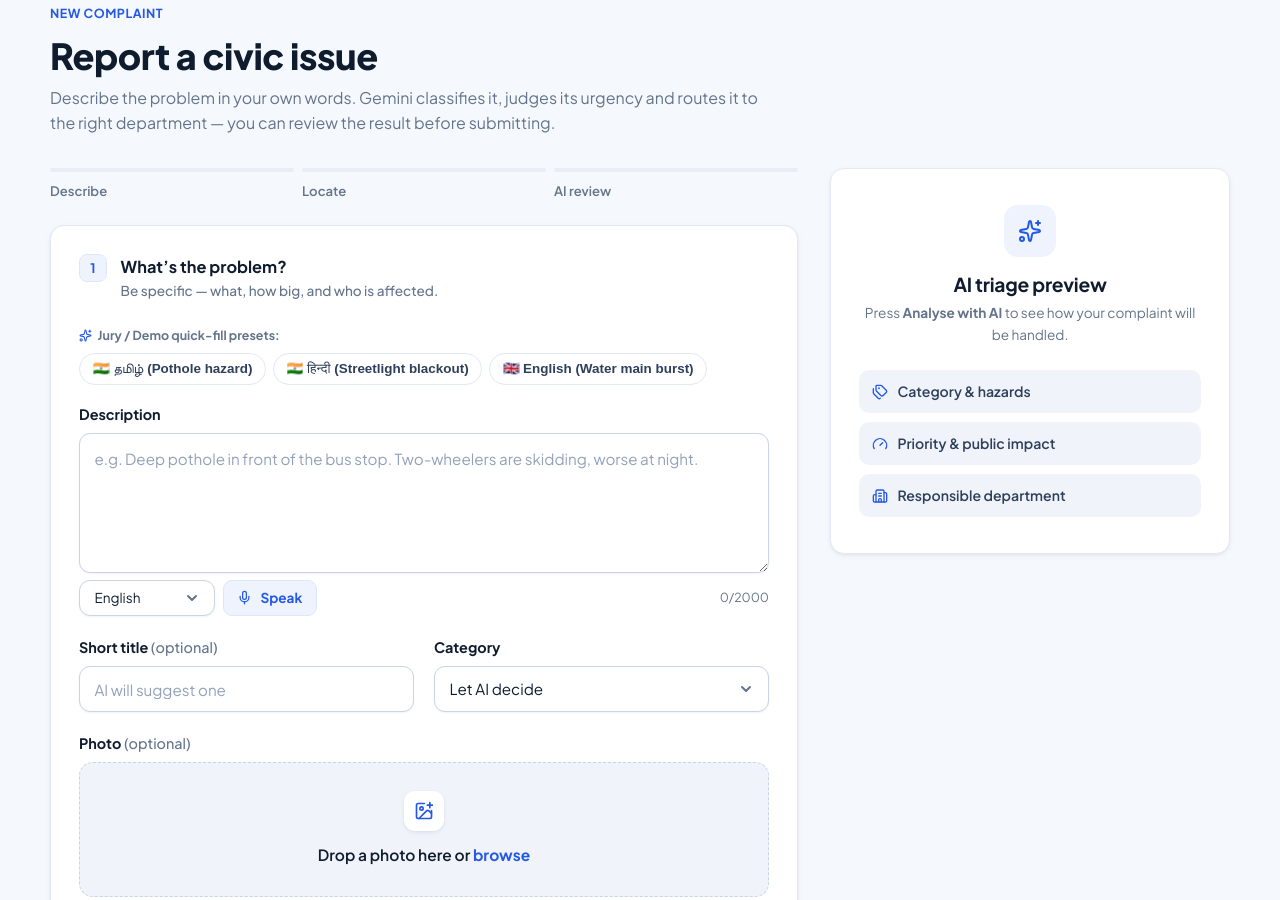
Test case: ReportPage › surfaces API errors to the user
In the text box labelled "Description": {"x": 424, "y": 503} [79, 433, 769, 573], type "Garbage overflowing for many days near market"
(page scrolled)
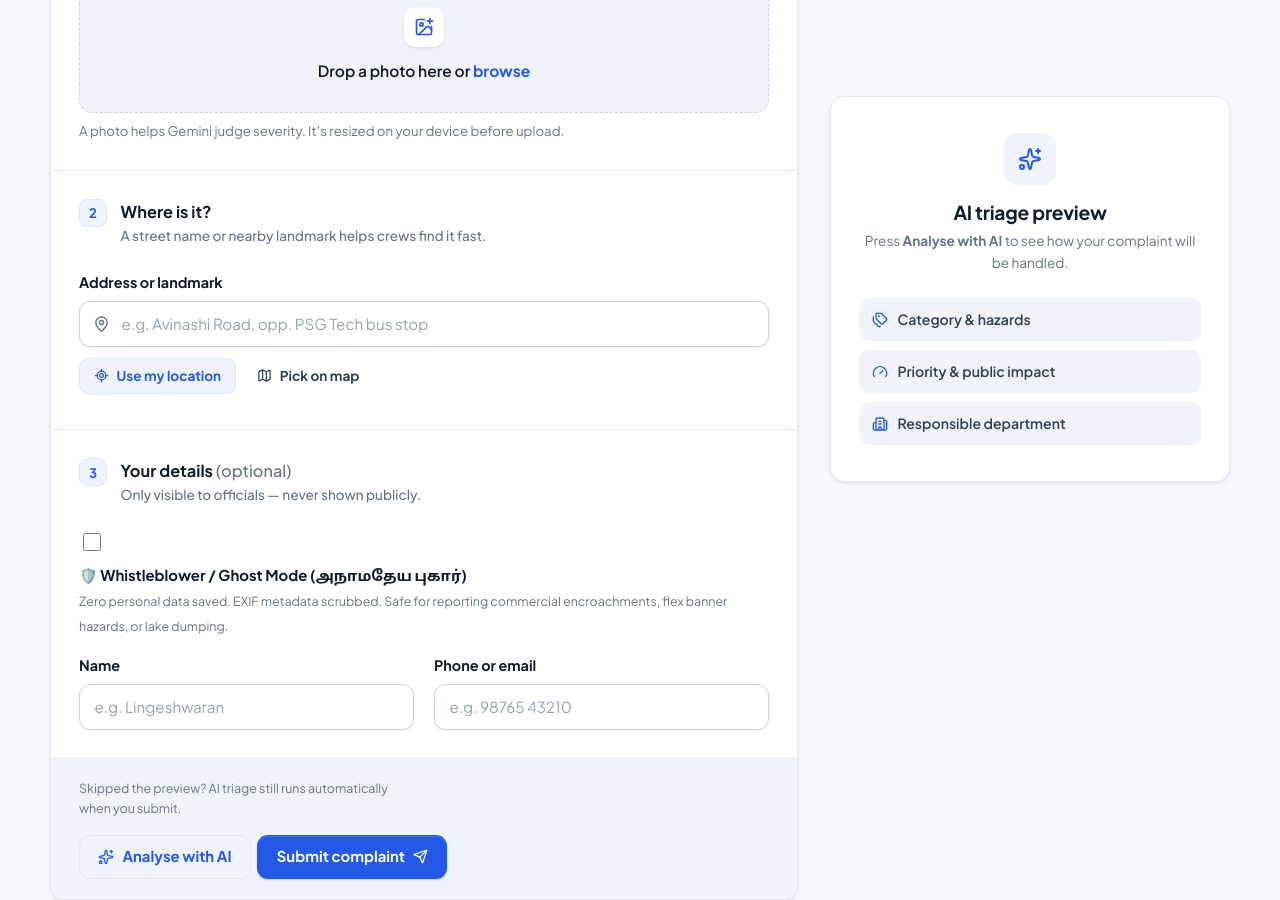
Click the button "Analyse with AI": {"x": 165, "y": 857} [79, 835, 251, 879]
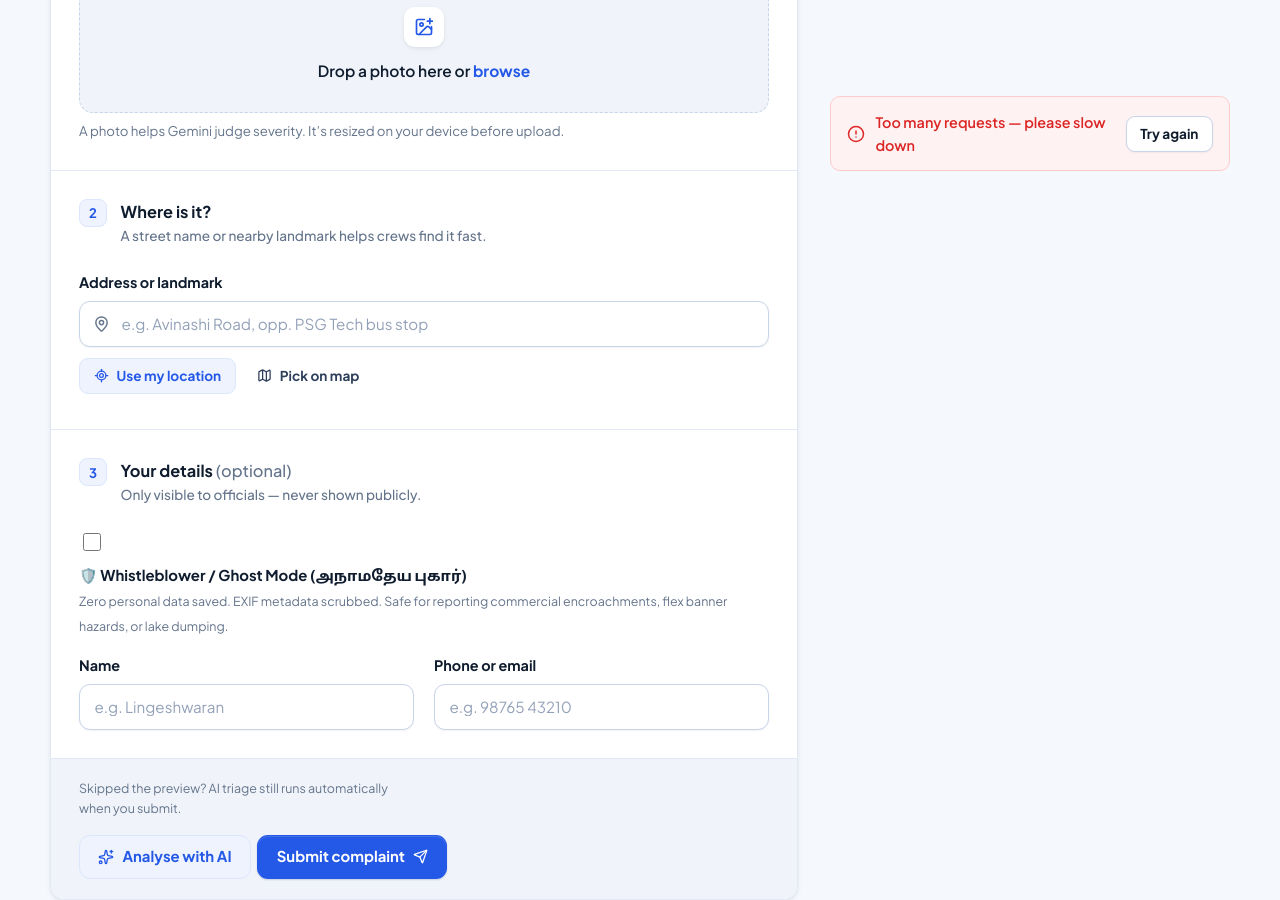
Now the message shows "Too many requests", box [875, 113, 1106, 154]
